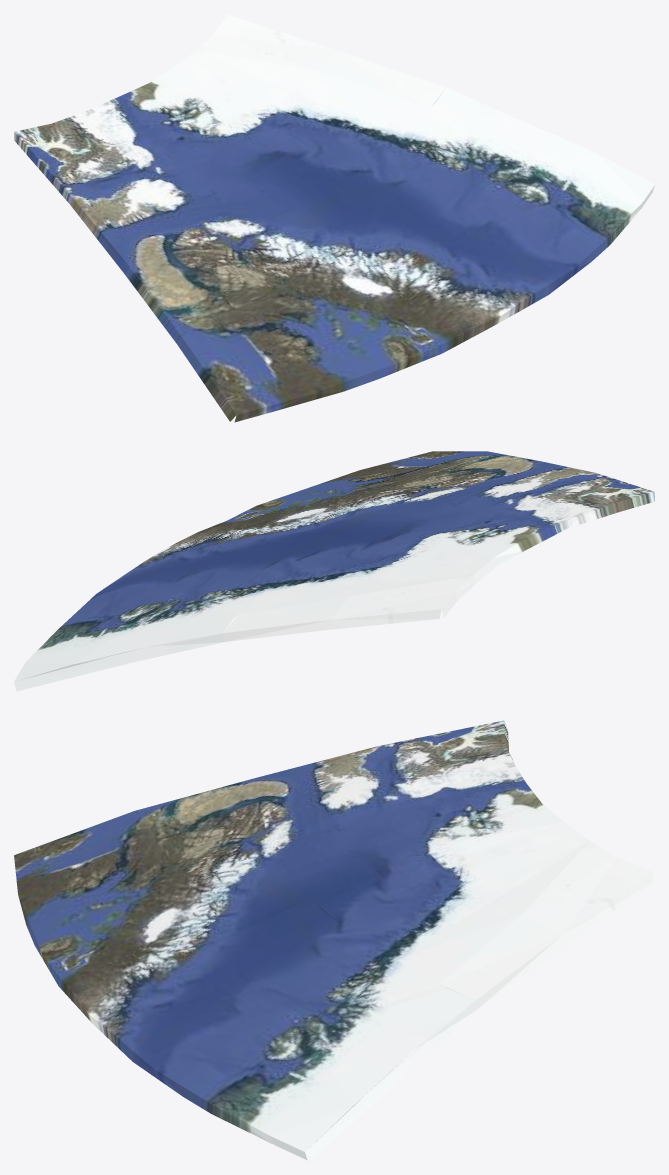
3 renders of one model, top to bottom at view 1: azimuth 30°, elevation 25°; view 2: azimuth 210°, elevation 25°; view 3: azimuth 270°, elevation 25°, orthographic. The views are drawn at different scales.
Bounding box in the file's own units: 1750145 × 391154 × 1582763.
1 material, 1 textured.
